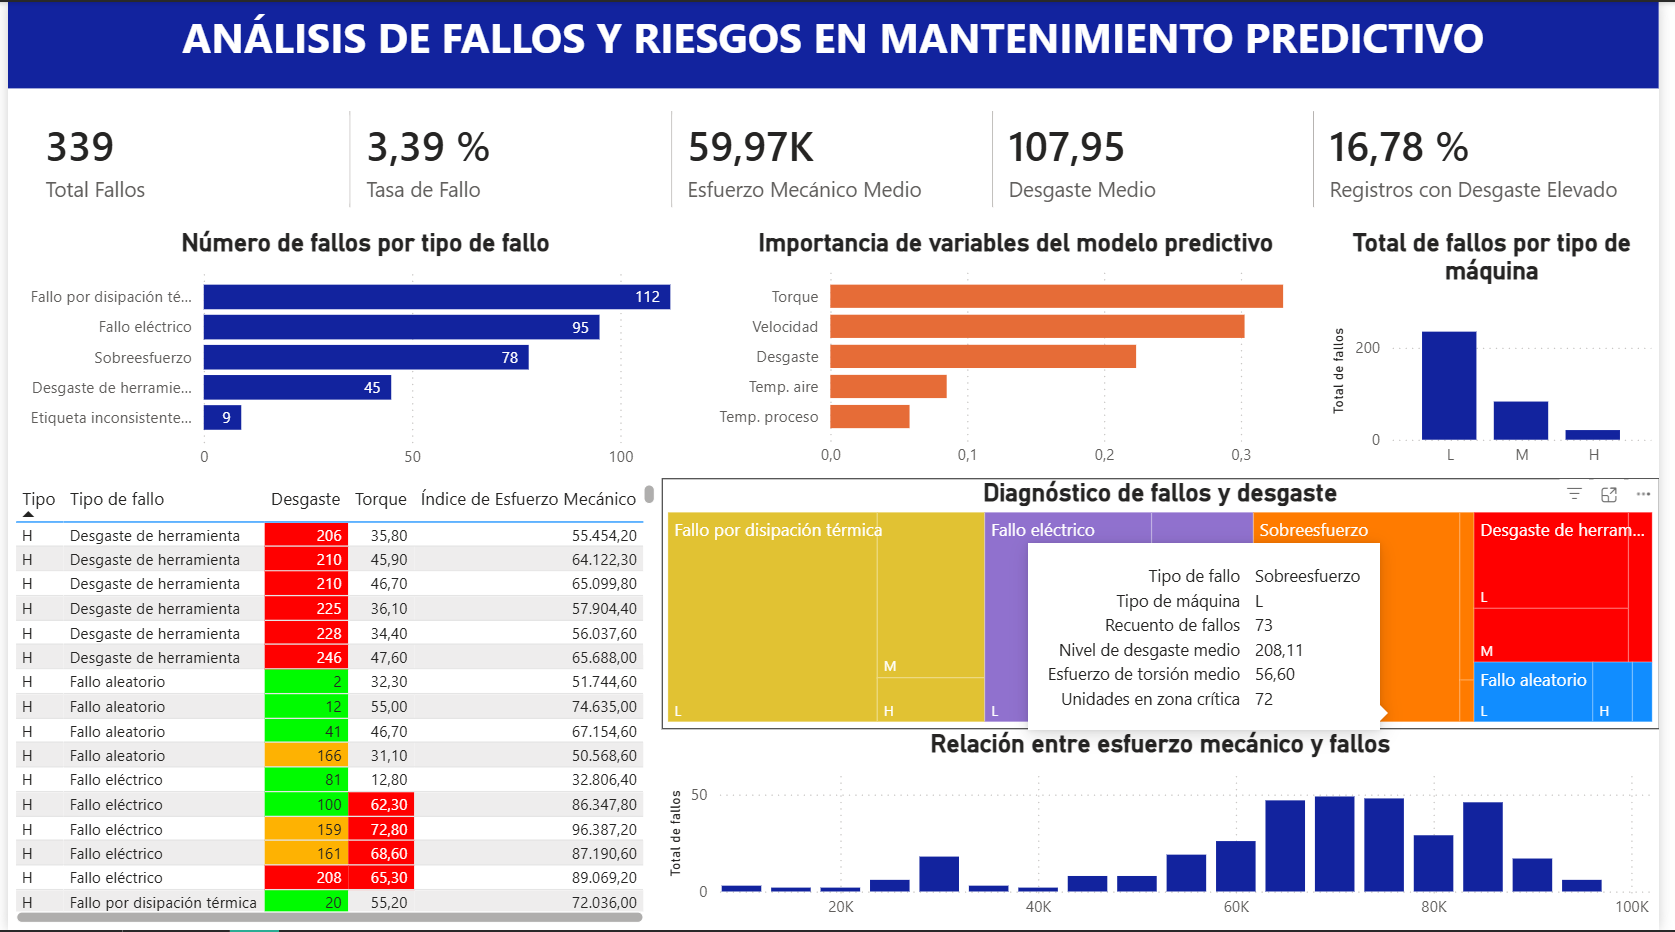

The dashboard page shown, as its layout file describes it:
{"tool":"powerbi","page":{"name":"Página 1","canvas":[1280,720],"ordinal":0},"visuals":[{"type":"actionButton","box":[0,0,100,40],"z":0},{"type":"shape","box":[0,0,1280,67],"z":1000},{"type":"textbox","box":[0,0,1280,67],"z":2000},{"type":"cardVisual","fields":{"Data":["monitoreo_maquinas.Total_Fallos","monitoreo_maquinas.Tasa_Fallo","monitoreo_maquinas.Esfuerzo_Mecanico_Medio","monitoreo_maquinas.Desgaste_Medio","monitoreo_maquinas.Porcentaje_Alto_Desgaste"]},"box":[0,67.4,1280,108.1],"z":3000},{"type":"clusteredBarChart","title":"Número de fallos por tipo de fallo","fields":{"Category":["monitoreo_maquinas.Tipo_Fallo_ES"],"Y":["monitoreo_maquinas.Total_Fallos"]},"box":[0,175.6,554.7,195.3],"z":4000},{"type":"clusteredBarChart","title":"Importancia de variables del modelo predictivo","fields":{"Category":["importancia_variables.variable"],"Y":["Sum(importancia_variables.importancia)"]},"box":[540.7,175.6,481.4,194.2],"z":5000},{"type":"tableEx","fields":{"Values":["monitoreo_maquinas.Tipo","monitoreo_maquinas.Tipo_Fallo_ES","monitoreo_maquinas.Desgaste","monitoreo_maquinas.Torque","monitoreo_maquinas.Indice_Esfuerzo_Mecanico"]},"box":[0,369.8,507,350],"z":6000},{"type":"clusteredColumnChart","title":"Relación entre esfuerzo mecánico y fallos","fields":{"Category":["monitoreo_maquinas.Indice_Esfuerzo_Mecanico (ubicaciones)"],"Y":["monitoreo_maquinas.Total_Fallos"]},"box":[507,564,773.3,155.8],"z":7000},{"type":"columnChart","title":"Total de fallos por tipo de máquina","fields":{"Category":["monitoreo_maquinas.Tipo"],"Y":["monitoreo_maquinas.Total_Fallos"]},"box":[1022.1,175.6,258.1,194.2],"z":8000},{"type":"treemap","title":"Diagnóstico de fallos y desgaste","fields":{"Details":["monitoreo_maquinas.Tipo"],"Group":["monitoreo_maquinas.Tipo_Fallo_ES"],"Values":["CountNonNull(monitoreo_maquinas.Fallo)"]},"box":[507,369.8,773.3,194.2],"z":9000}]}

Visuals, with their boxes in screenshot pixels (x1, y1, x2, y2), scaled from the page's 1280x720 canvas onto the 1675x932 screenshot:
actionButton: detection(0, 0, 131, 52)
shape: detection(0, 0, 1674, 87)
textbox: detection(0, 0, 1674, 87)
cardVisual - monitoreo_maquinas.Total_Fallos x monitoreo_maquinas.Tasa_Fallo: detection(0, 87, 1674, 227)
"Número de fallos por tipo de fallo" clusteredBarChart: detection(0, 227, 726, 480)
"Importancia de variables del modelo predictivo" clusteredBarChart: detection(708, 227, 1338, 479)
tableEx - monitoreo_maquinas.Tipo x monitoreo_maquinas.Tipo_Fallo_ES: detection(0, 479, 663, 931)
"Relación entre esfuerzo mecánico y fallos" clusteredColumnChart: detection(663, 730, 1674, 931)
"Total de fallos por tipo de máquina" columnChart: detection(1338, 227, 1674, 479)
"Diagnóstico de fallos y desgaste" treemap: detection(663, 479, 1674, 730)
